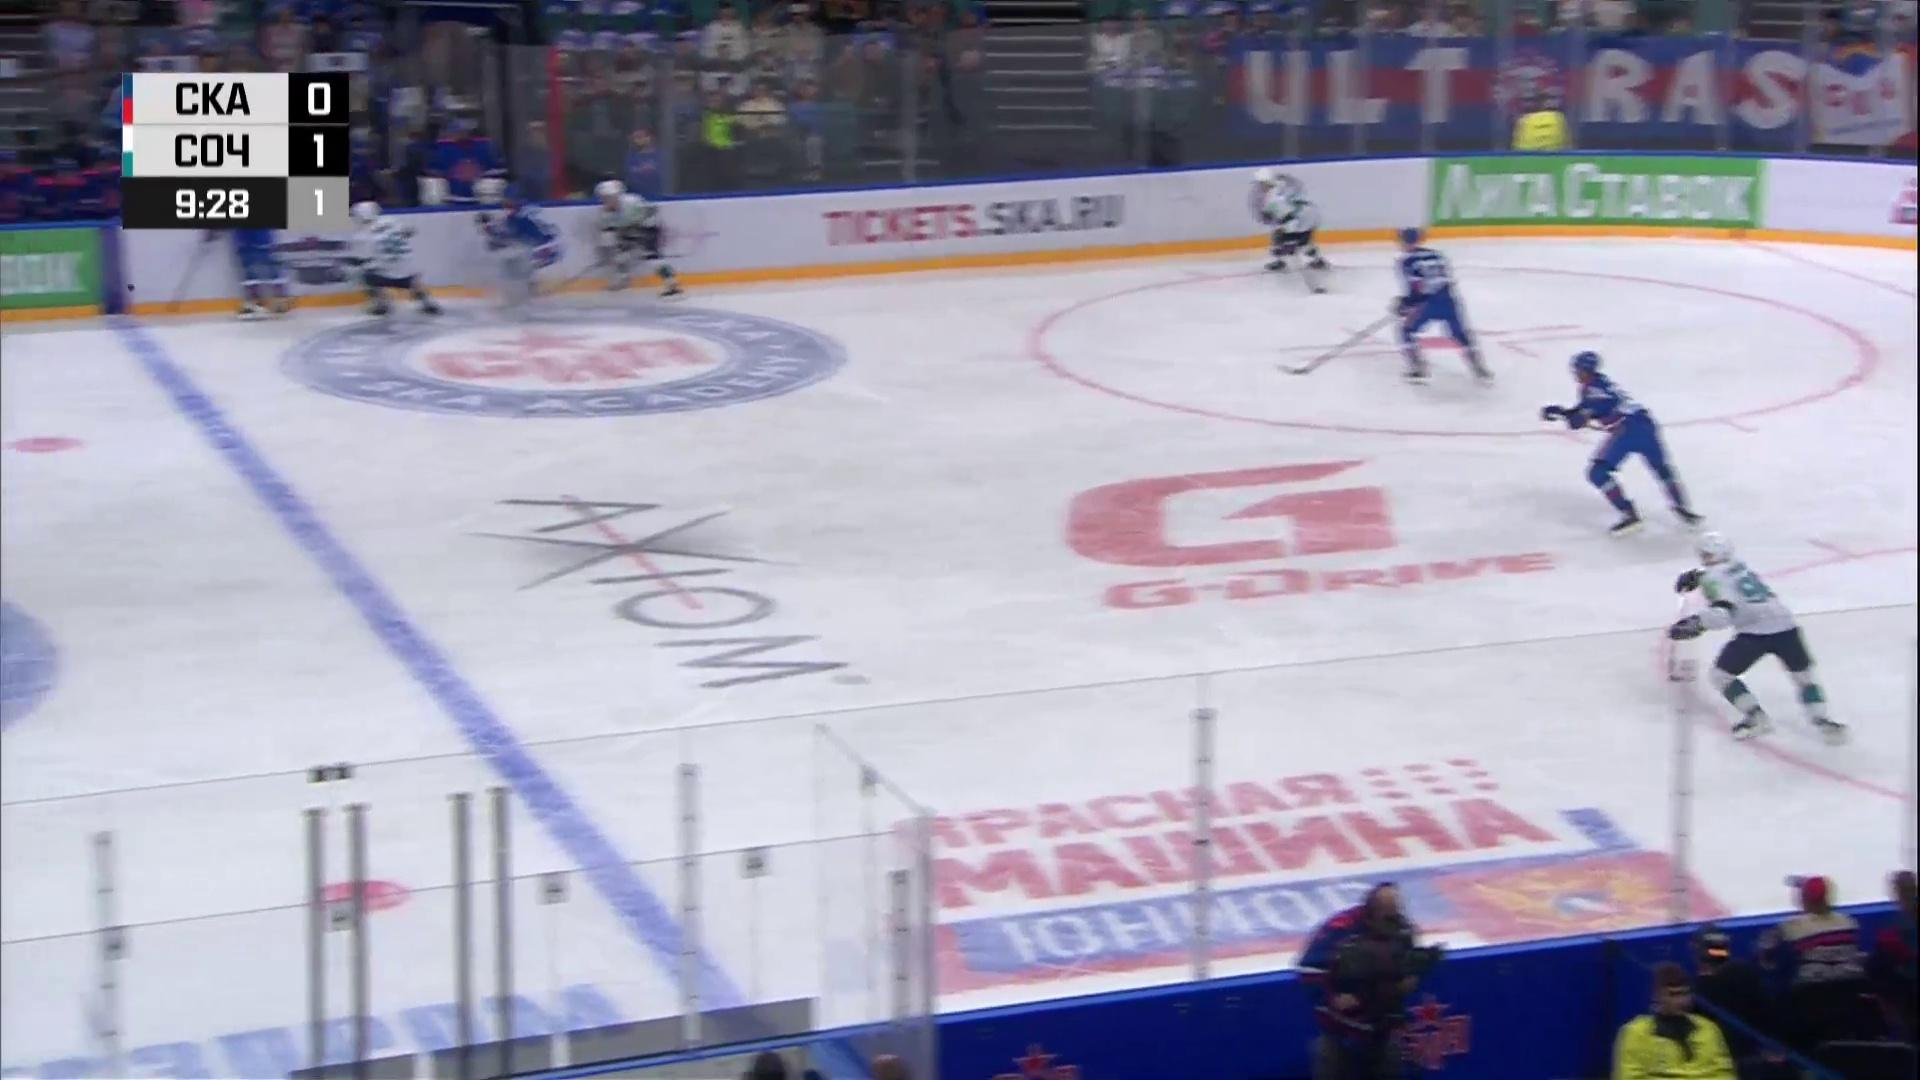ball: (128, 284, 135, 293)
